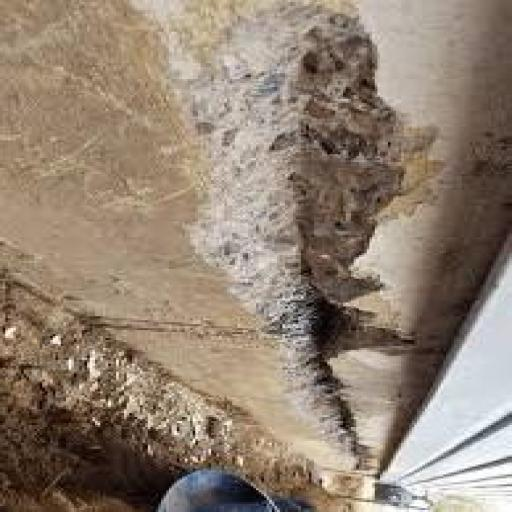spalling: (210, 10, 409, 419)
